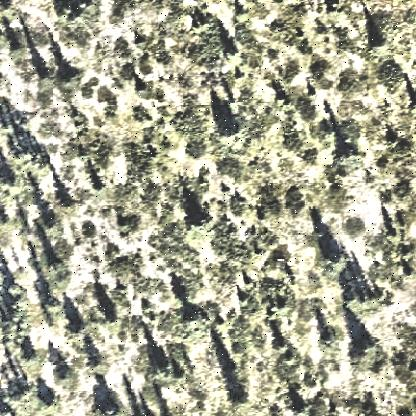tree-top: (349, 332, 387, 372), (349, 288, 384, 315), (219, 118, 249, 148), (177, 304, 207, 332), (324, 248, 352, 274), (42, 254, 70, 280), (41, 213, 67, 241), (188, 210, 213, 238), (21, 142, 49, 167), (229, 391, 256, 416), (61, 2, 90, 24), (152, 356, 177, 381), (59, 65, 83, 91), (337, 145, 363, 169), (319, 328, 343, 354), (39, 392, 65, 416), (13, 383, 39, 407), (94, 397, 125, 416), (67, 318, 91, 341), (5, 282, 27, 307), (58, 192, 82, 214), (56, 363, 78, 387), (369, 35, 391, 58), (22, 348, 45, 370), (87, 352, 109, 374), (36, 69, 58, 91), (2, 169, 21, 194), (105, 308, 126, 330), (9, 41, 30, 61), (44, 298, 64, 319), (1, 216, 18, 236), (1, 1, 17, 21), (228, 45, 245, 63), (91, 180, 108, 197), (293, 403, 311, 416)
